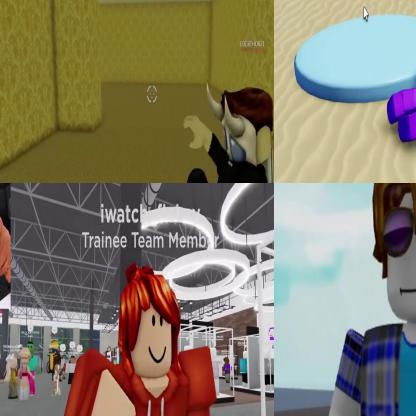Roblox-Avatar: (62, 263, 220, 416), (316, 184, 416, 416), (163, 82, 274, 183), (388, 47, 416, 144), (20, 348, 37, 402), (28, 341, 41, 397), (5, 354, 19, 400), (53, 353, 62, 398), (223, 357, 233, 385)
